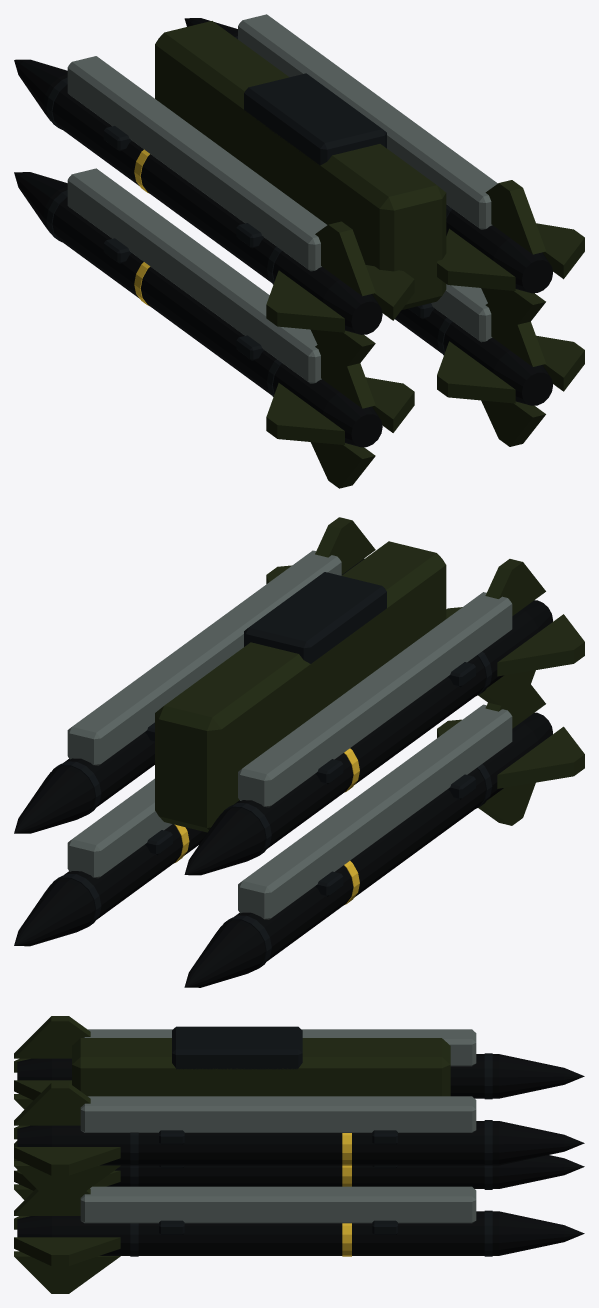
File: MissileATQuad.obj
The picture shows the model from 3 angles, top to bottom: view 1: azimuth 30°, elevation 25°; view 2: azimuth 150°, elevation 25°; view 3: azimuth 270°, elevation 25°; orthographic projection. The views are drawn at different scales.
Parts seen in each view (by area): view 1: Quad_rail_central_beam, Rail_spine, Rail_spine.002, AT3_body, AT1_body, Rail_spine.001, Mount_lug, AT4_body, AT2_body, AT1_tail_fin.002, AT3_tail_fin.002, AT4_tail_fin.002 (+14 smaller); view 2: Quad_rail_central_beam, Rail_spine, Rail_spine.002, AT1_body, AT3_body, Rail_spine.001, Mount_lug, AT4_body, AT2_body, Rail_spine.003, AT1_tail_fin.002, AT3_tail_fin.002 (+5 smaller); view 3: Quad_rail_central_beam, AT2_body, AT4_body, Rail_spine.003, Rail_spine.001, AT3_body, Mount_lug, AT1_body, Rail_spine, AT4_tail_fin, AT2_tail_fin, AT2_tail_fin.001 (+13 smaller).
Part boxes in pixels (box(x1,y1,x2,y2)): Quad_rail_central_beam: box(155, 21, 446, 309); Rail_spine: box(67, 56, 327, 271); Rail_spine.002: box(67, 168, 321, 383); AT3_body: box(14, 172, 382, 447); AT1_body: box(14, 59, 382, 334); Rail_spine.001: box(238, 14, 497, 229); Mount_lug: box(244, 73, 386, 165); AT4_body: box(395, 308, 552, 405); AT2_body: box(184, 18, 552, 293); AT1_tail_fin.002: box(266, 270, 344, 332); AT3_tail_fin.002: box(266, 383, 344, 444); AT4_tail_fin.002: box(437, 341, 515, 403); Quad_rail_central_beam: box(155, 541, 446, 832); Rail_spine: box(238, 592, 512, 807); Rail_spine.002: box(238, 704, 512, 919); AT1_body: box(184, 600, 552, 875); AT3_body: box(184, 712, 552, 987); Rail_spine.001: box(67, 550, 341, 765); Mount_lug: box(244, 572, 386, 663); AT4_body: box(14, 824, 206, 946); AT2_body: box(14, 558, 364, 833); Rail_spine.003: box(67, 778, 172, 878); AT1_tail_fin.002: box(497, 614, 584, 676); AT3_tail_fin.002: box(497, 726, 584, 788); Quad_rail_central_beam: box(72, 1038, 450, 1096); AT2_body: box(17, 1121, 584, 1165); AT4_body: box(17, 1211, 584, 1255); Rail_spine.003: box(80, 1186, 476, 1223); Rail_spine.001: box(80, 1096, 476, 1132); AT3_body: box(17, 1155, 584, 1188); Mount_lug: box(172, 1026, 302, 1069); AT1_body: box(17, 1054, 584, 1098); Rail_spine: box(84, 1029, 476, 1066); AT4_tail_fin: box(14, 1237, 120, 1265); AT2_tail_fin: box(14, 1147, 120, 1175); AT2_tail_fin.001: box(14, 1083, 90, 1125).
Bounding box in the file's own units: 0.83 × 0.705 × 1.66.
